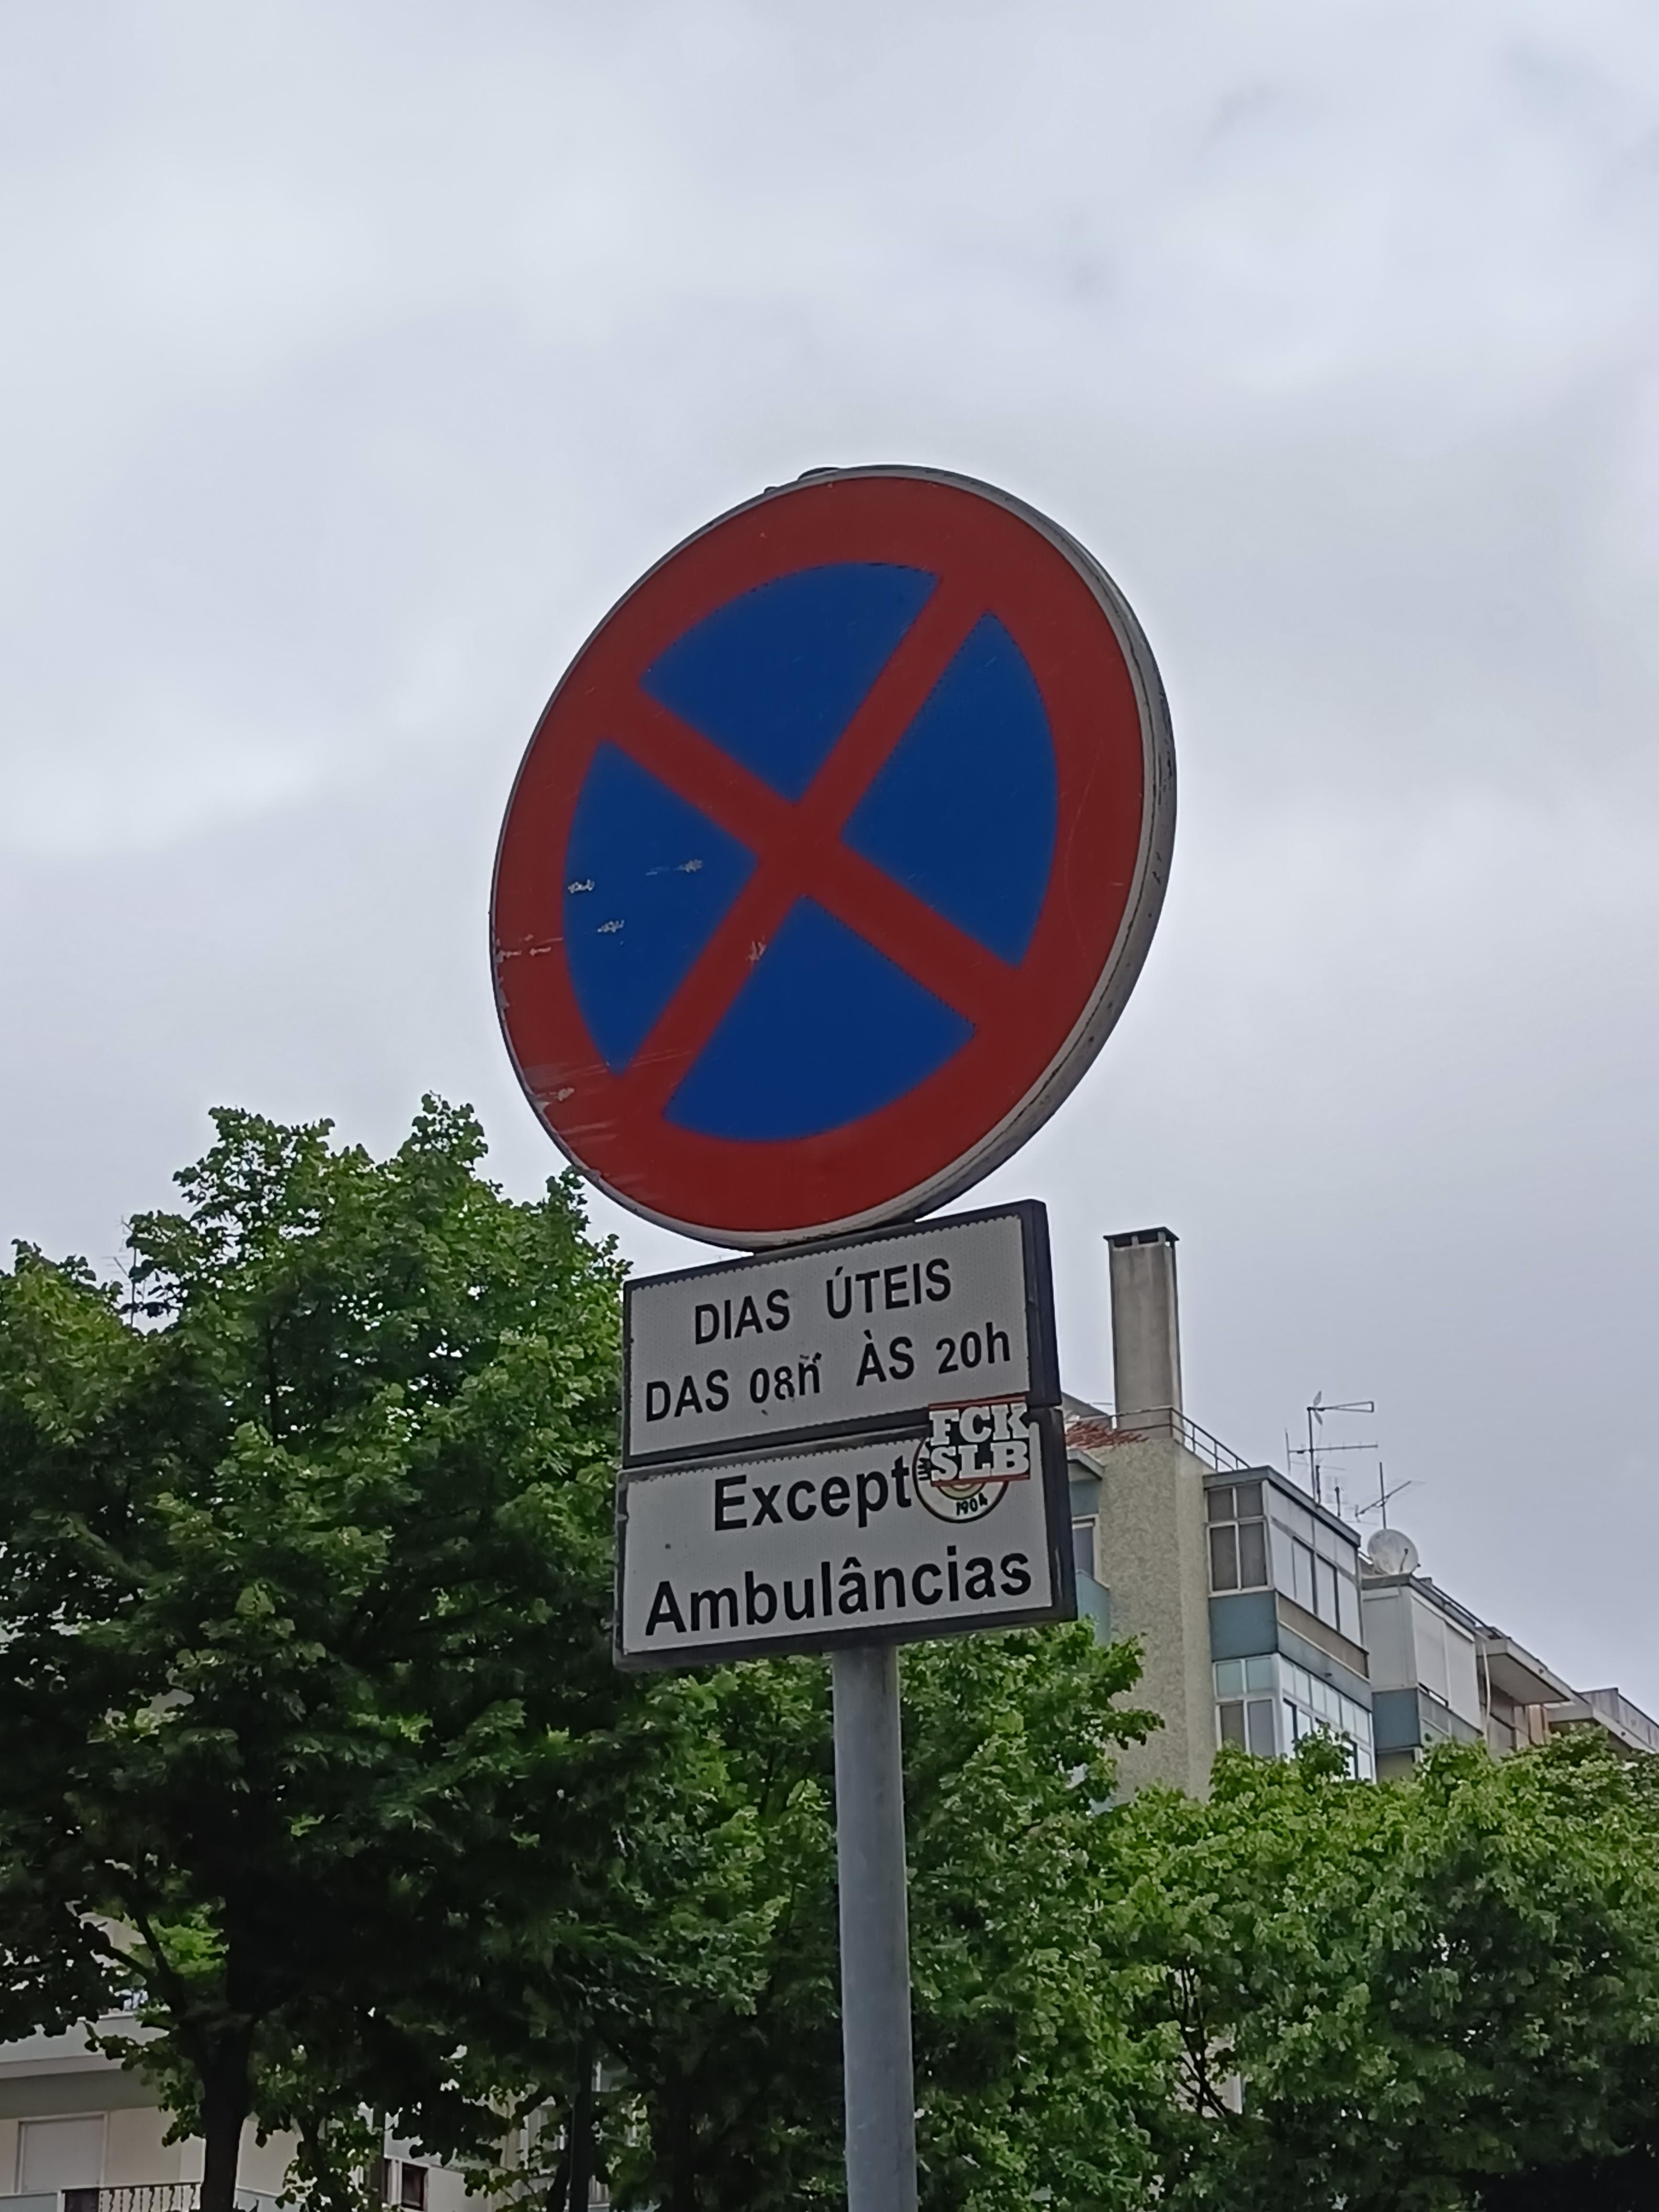paragem e estacionamento proibido: (430, 430, 1182, 1249)
